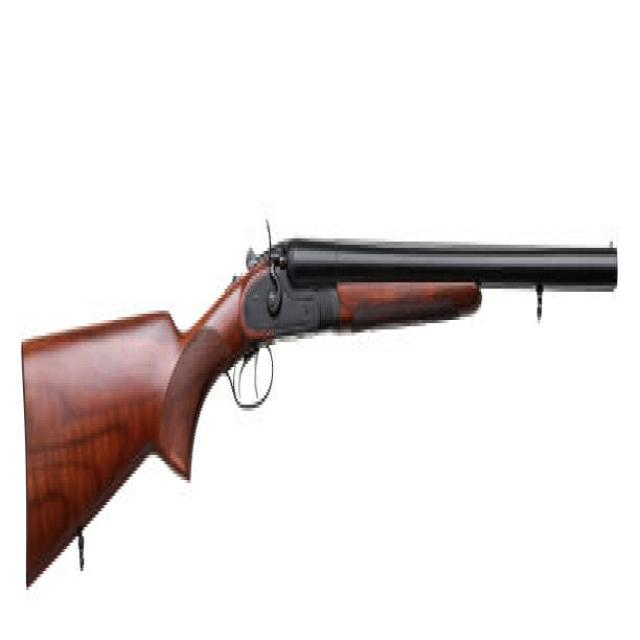rifle: (22, 195, 626, 608)
